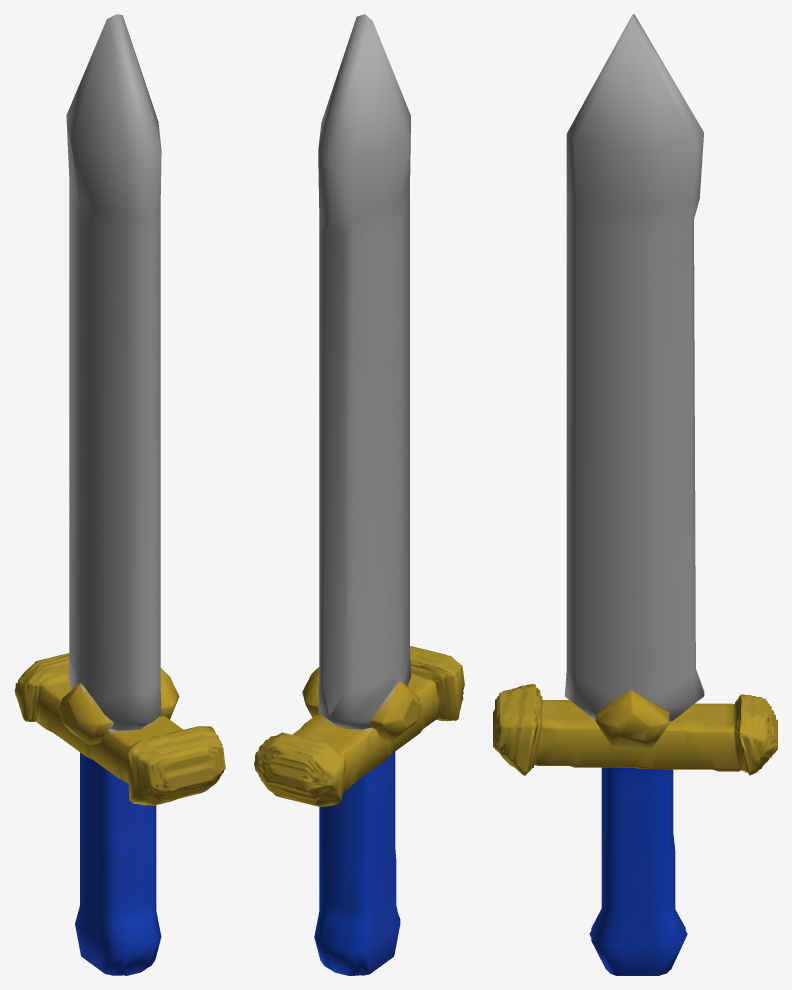
Rendered from sword.glb.
3 renders of one model, left to right at view 1: azimuth 30°, elevation 25°; view 2: azimuth 150°, elevation 25°; view 3: azimuth 270°, elevation 25°, orthographic.
Visible parts, largest first — view 1: tripo_node_fa4fdcf9-a726-47fd-9c03-c728c95e79c5; view 2: tripo_node_fa4fdcf9-a726-47fd-9c03-c728c95e79c5; view 3: tripo_node_fa4fdcf9-a726-47fd-9c03-c728c95e79c5.
Part boxes in pixels (x1,y1,x2,y2): tripo_node_fa4fdcf9-a726-47fd-9c03-c728c95e79c5: (14,14,225,975); tripo_node_fa4fdcf9-a726-47fd-9c03-c728c95e79c5: (254,14,464,975); tripo_node_fa4fdcf9-a726-47fd-9c03-c728c95e79c5: (493,14,777,975).
Size of the model in its own units: 0.1113 by 0.998 by 0.2715.
Materials: 1 (1 with a texture image).
